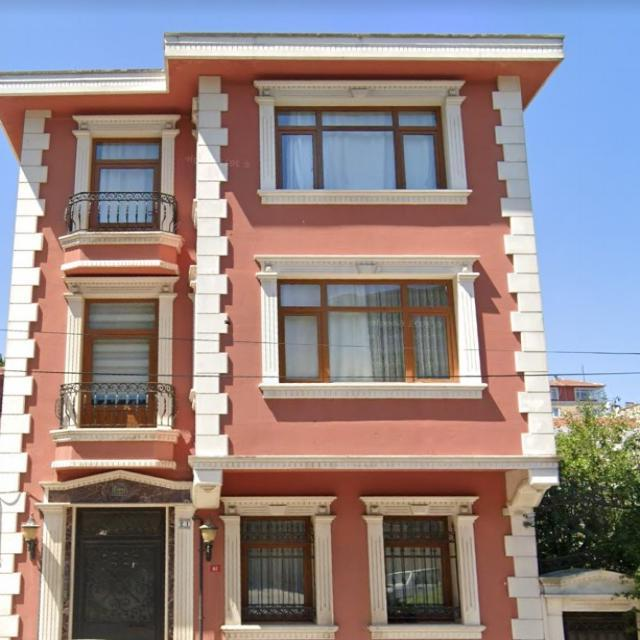Building: (0, 33, 563, 640)
